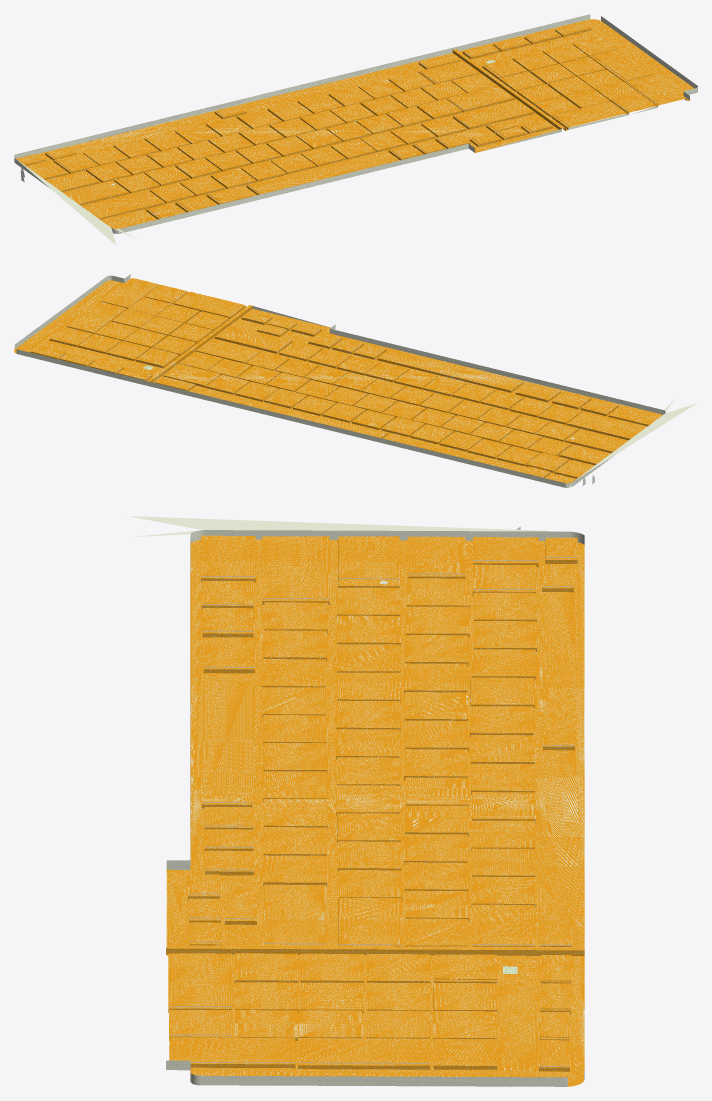
The picture shows the model from 3 angles, top to bottom: view 1: azimuth 30°, elevation 25°; view 2: azimuth 150°, elevation 25°; view 3: azimuth 270°, elevation 25°; orthographic projection. The views are drawn at different scales.
Size of the model in its own units: 1.17 by 0.0221 by 0.404.
